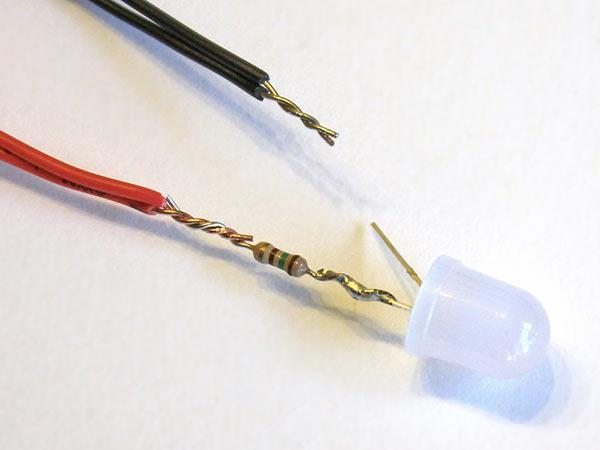resistor: (249, 239, 310, 279)
